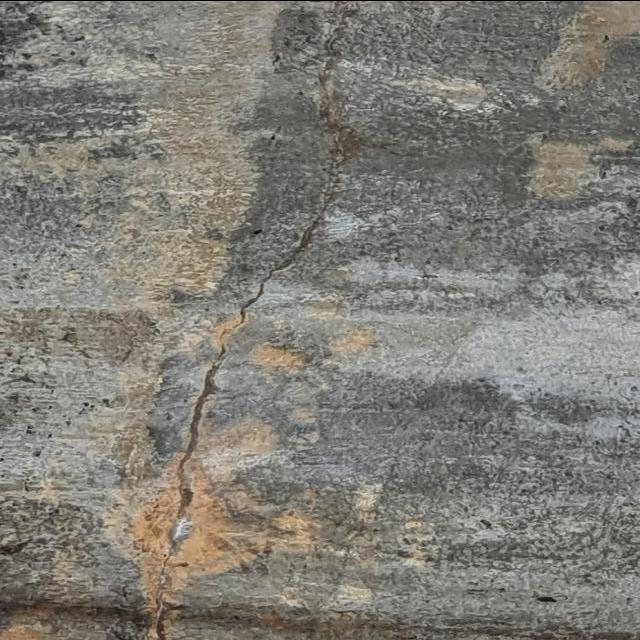SurfaceCrack: (154, 1, 387, 639)
